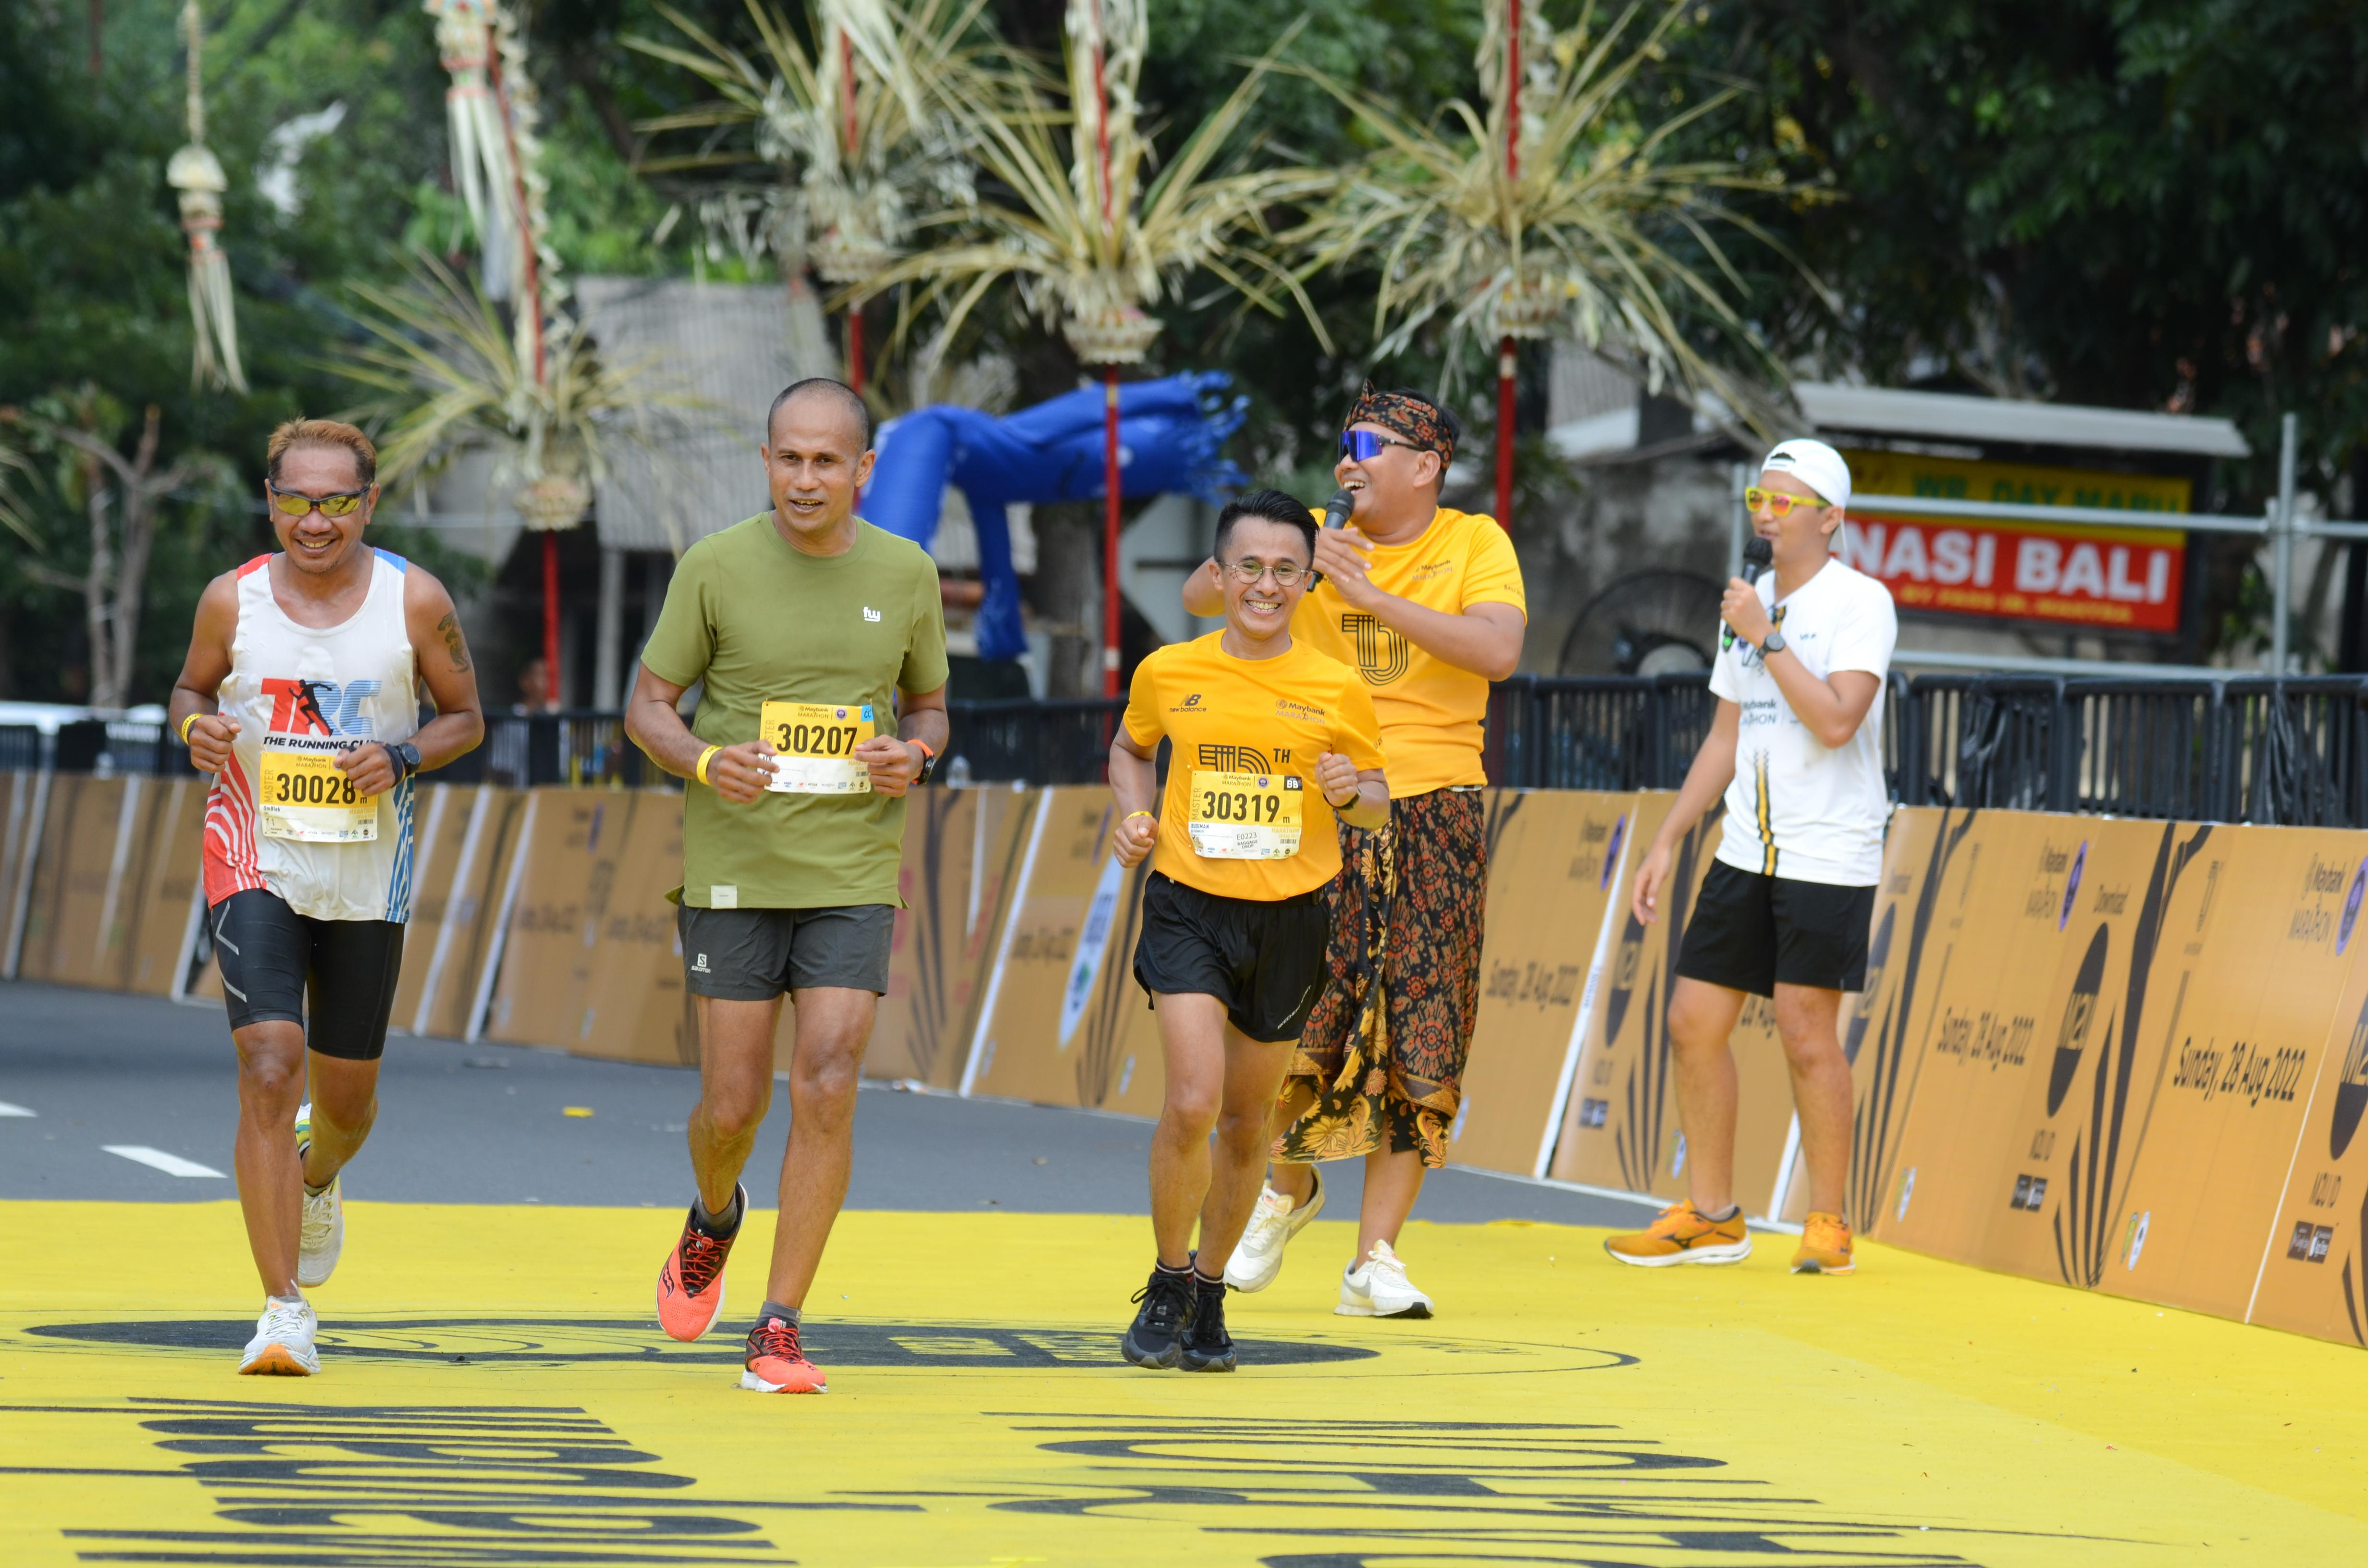bib: (758, 702, 873, 793), (261, 751, 378, 840), (1187, 772, 1302, 861)
